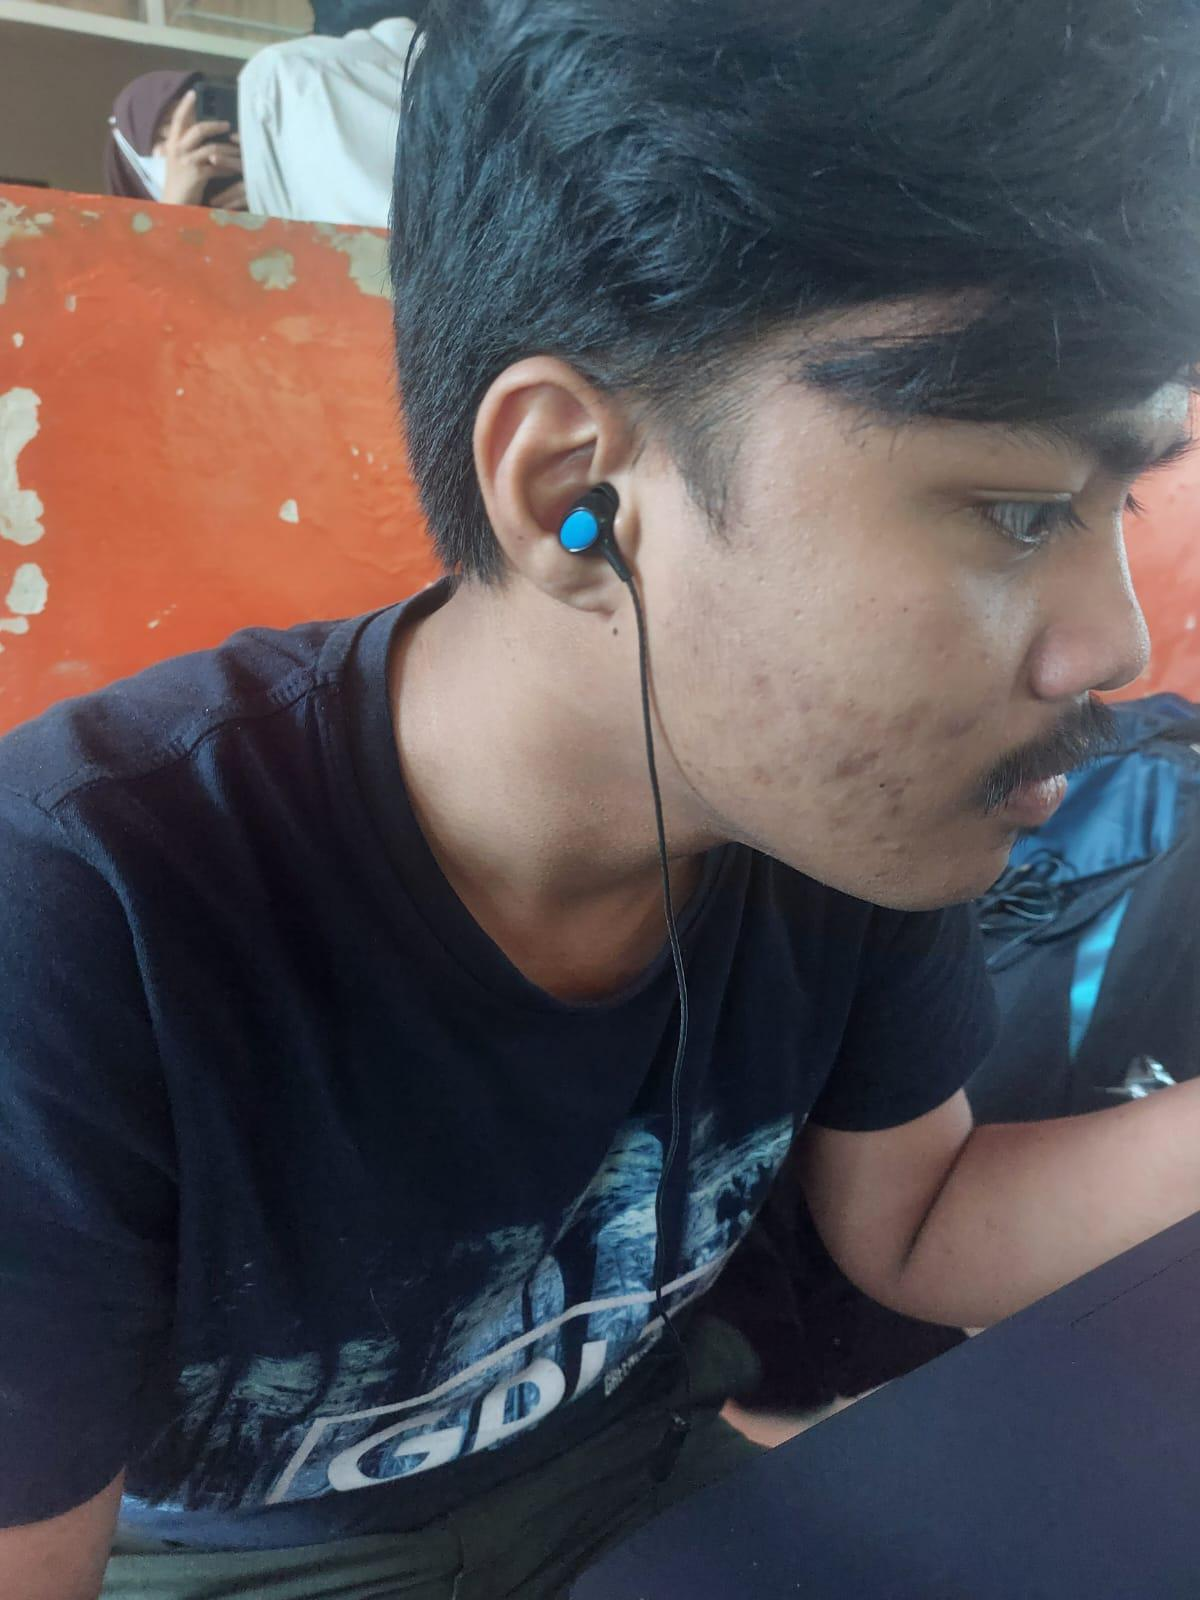Earphone: (529, 472, 673, 634)
